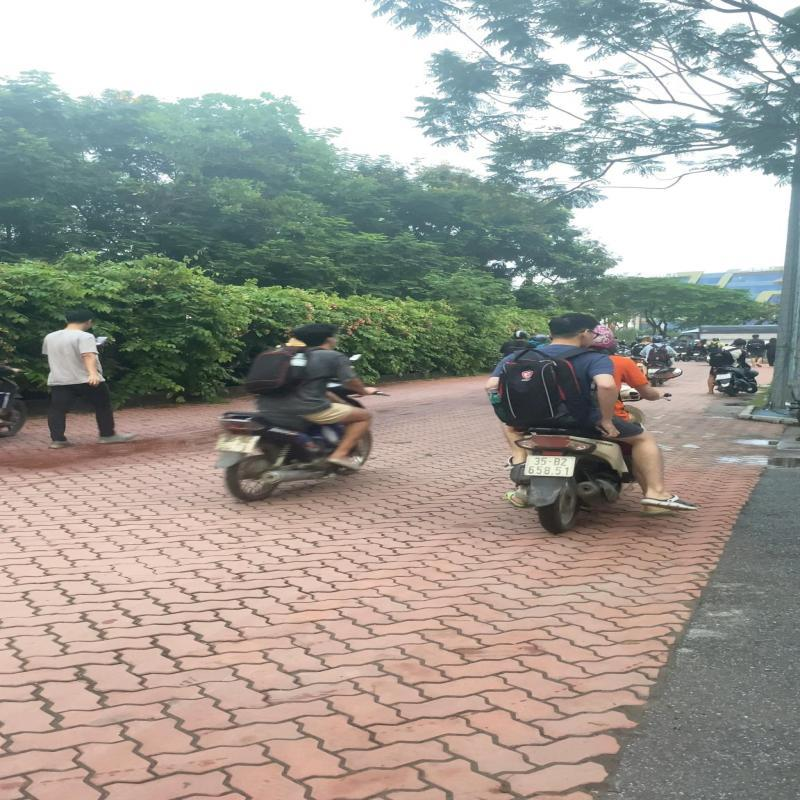helmet: (591, 322, 616, 350)
licenseplate: (212, 432, 263, 456), (524, 455, 576, 478)
motorcyclist: (484, 312, 702, 536), (212, 320, 392, 503)
nohelmet: (550, 313, 598, 344), (290, 322, 338, 348)
